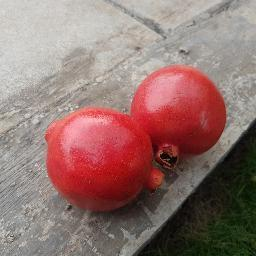Good_pomegranate: (36, 108, 165, 215), (134, 63, 228, 168)
